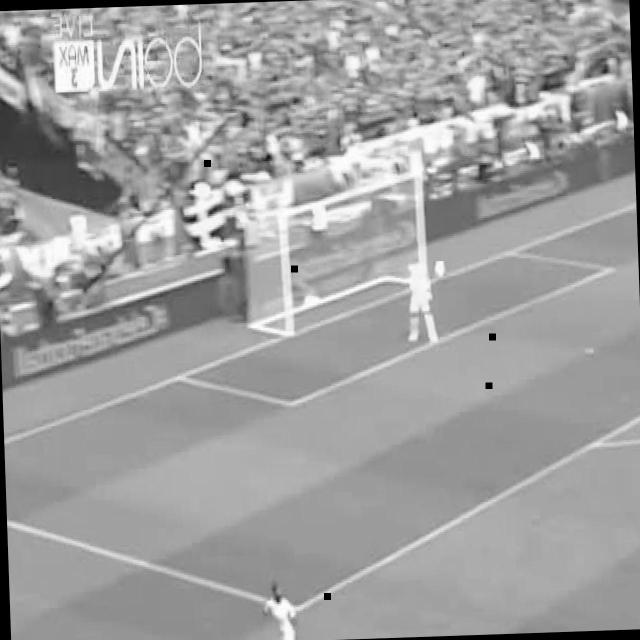ball: (433, 261, 445, 279)
player-white: (404, 254, 438, 346), (262, 578, 306, 640)
